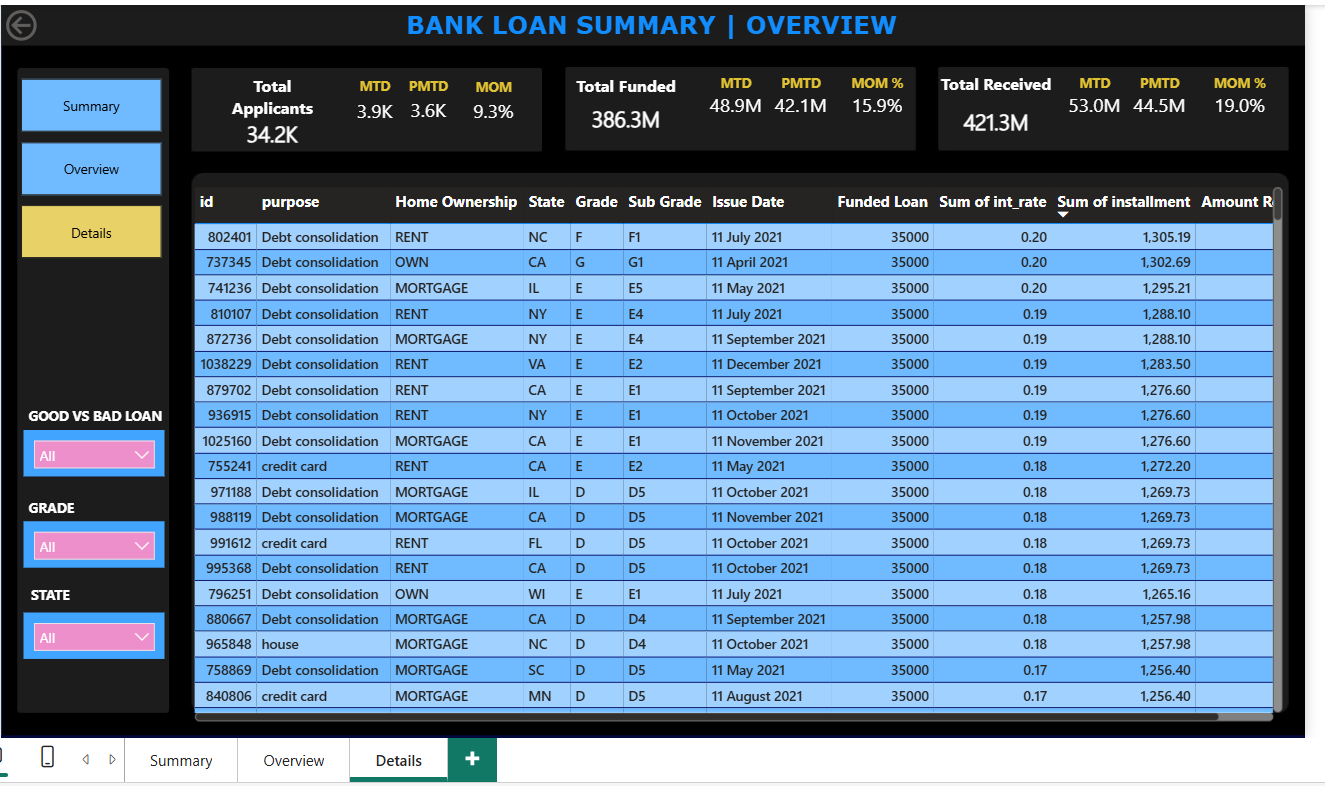

The page's visual inventory and layout, read from the dashboard file:
{"tool":"powerbi","page":{"name":"Details","canvas":[1280,720],"ordinal":2},"visuals":[{"type":"textbox","box":[387,0,505,45],"z":0},{"type":"card","title":"Total Applicants","fields":{"Values":["bank_finance_loan loan.Total Applicants"]},"box":[201.7,67.2,130.4,78.2],"z":1000},{"type":"card","title":"MTD","fields":{"Values":["bank_finance_loan loan.MTD Funded amount"]},"box":[657.3,67.2,127.6,43.9],"z":2000},{"type":"card","title":"PMTD","fields":{"Values":["bank_finance_loan loan.PMTD funded amount"]},"box":[721.8,67.2,127.6,43.9],"z":3000},{"type":"card","title":"MOM %","fields":{"Values":["bank_finance_loan loan.MOM growth Funded%"]},"box":[795.9,67.2,127.6,43.9],"z":4000},{"type":"card","title":"MTD","fields":{"Values":["bank_finance_loan loan.MTD applicants"]},"box":[301.9,70,130.4,53.5],"z":5000},{"type":"card","title":"PMTD","fields":{"Values":["bank_finance_loan loan.Pmtd applicants"]},"box":[354.6,69.9,130.1,52.8],"z":6000},{"type":"card","title":"MOM","fields":{"Values":["bank_finance_loan loan.MOm growth %"]},"box":[418.5,71.4,130.4,52.1],"z":7000},{"type":"card","title":"Total Funded ","fields":{"Values":["bank_finance_loan loan.TOTAL Funded"]},"box":[548.9,67.2,130.4,70],"z":8000},{"type":"card","title":"Total Received","fields":{"Values":["bank_finance_loan loan.Total Received"]},"box":[911.2,65.9,130.4,78.2],"z":9000},{"type":"card","title":"MTD","fields":{"Values":["bank_finance_loan loan.MTD amount Received"]},"box":[1010,67.2,127.6,43.9],"z":10000},{"type":"card","title":"PMTD","fields":{"Values":["bank_finance_loan loan.PMTD total Received"]},"box":[1073.1,67.2,127.6,43.9],"z":11000},{"type":"card","title":"MOM %","fields":{"Values":["bank_finance_loan loan.MOM total received"]},"box":[1152.7,67.2,127.6,43.9],"z":12000},{"type":"slicer","fields":{"Values":["bank_finance_loan loan.address_state"]},"box":[22.1,596.3,138.7,45.4],"z":13000},{"type":"slicer","fields":{"Values":["bank_finance_loan loan.grade"]},"box":[22.1,506.8,138.7,45.4],"z":14000},{"type":"slicer","fields":{"Values":["bank_finance_loan loan.GOOD LOAN VS BAD LOAN"]},"box":[22.1,417.2,138.7,45.4],"z":15000},{"type":"textbox","box":[22.1,389,152.1,28.2],"z":16000},{"type":"textbox","box":[22.1,479.8,76.1,31.9],"z":17000},{"type":"textbox","box":[24.5,564.4,69.9,38],"z":18000},{"type":"tableEx","fields":{"Values":["bank_finance_loan loan.id","bank_finance_loan loan.purpose","bank_finance_loan loan.home_ownership","bank_finance_loan loan.address_state","bank_finance_loan loan.grade","bank_finance_loan loan.sub_grade","bank_finance_loan loan.issue_date","bank_finance_loan loan.TOTAL Funded","Sum(bank_finance_loan loan.int_rate)","Sum(bank_finance_loan loan.installment)","bank_finance_loan loan.Total Received"]},"box":[184.1,174.2,1078.5,533.7],"z":21000},{"type":"actionButton","box":[0,0,100,40],"z":22000},{"type":"pageNavigator","box":[19.6,72.4,138.7,176.7],"z":22001}]}

Visuals, with their boxes on the page's 1280x720 design canvas (x1, y1, x2, y2). These are canvas units, not pixel positions in the 1325x786 screenshot, which may show the page scaled, cropped or inside an application window:
textbox: bbox=(387, 0, 892, 45)
"Total Applicants" card: bbox=(202, 67, 332, 145)
"MTD" card: bbox=(657, 67, 785, 111)
"PMTD" card: bbox=(722, 67, 849, 111)
"MOM %" card: bbox=(796, 67, 924, 111)
"MTD" card: bbox=(302, 70, 432, 124)
"PMTD" card: bbox=(355, 70, 485, 123)
"MOM" card: bbox=(418, 71, 549, 124)
"Total Funded " card: bbox=(549, 67, 679, 137)
"Total Received" card: bbox=(911, 66, 1042, 144)
"MTD" card: bbox=(1010, 67, 1138, 111)
"PMTD" card: bbox=(1073, 67, 1201, 111)
"MOM %" card: bbox=(1153, 67, 1280, 111)
slicer - bank_finance_loan loan.address_state: bbox=(22, 596, 161, 642)
slicer - bank_finance_loan loan.grade: bbox=(22, 507, 161, 552)
slicer - bank_finance_loan loan.GOOD LOAN VS BAD LOAN: bbox=(22, 417, 161, 463)
textbox: bbox=(22, 389, 174, 417)
textbox: bbox=(22, 480, 98, 512)
textbox: bbox=(24, 564, 94, 602)
tableEx - bank_finance_loan loan.id x bank_finance_loan loan.purpose: bbox=(184, 174, 1263, 708)
actionButton: bbox=(0, 0, 100, 40)
pageNavigator: bbox=(20, 72, 158, 249)
